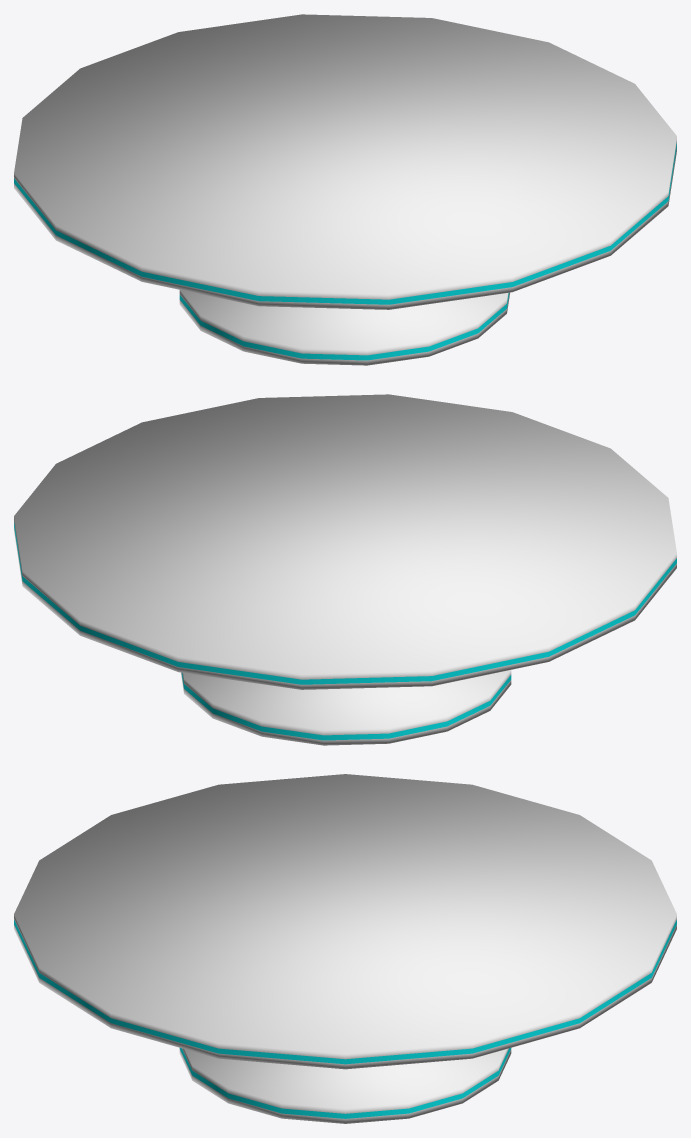
Rendered from Round Table - Short.fbx.
3 renders of one model, top to bottom at view 1: azimuth 30°, elevation 25°; view 2: azimuth 150°, elevation 25°; view 3: azimuth 270°, elevation 25°, orthographic.
Visible parts, largest first — view 1: Cylinder.001; view 2: Cylinder.001; view 3: Cylinder.001.
Part boxes in pixels (x1=…): Cylinder.001: x1=14, y1=14, x2=676, y2=365; Cylinder.001: x1=14, y1=394, x2=676, y2=745; Cylinder.001: x1=14, y1=774, x2=676, y2=1123.
Size of the model in its own units: 9.81 by 9.81 by 2.28.
